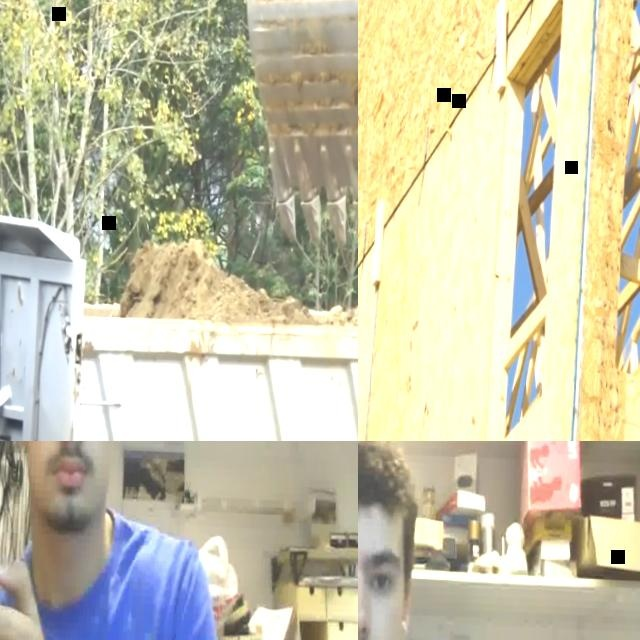NO-Hardhat: (358, 441, 413, 537)
NO-Mask: (25, 445, 110, 528)
NO-Safety Vest: (0, 518, 165, 640)
Person: (0, 441, 244, 640), (358, 441, 530, 640)
machinery: (0, 208, 358, 441), (236, 0, 358, 251)
